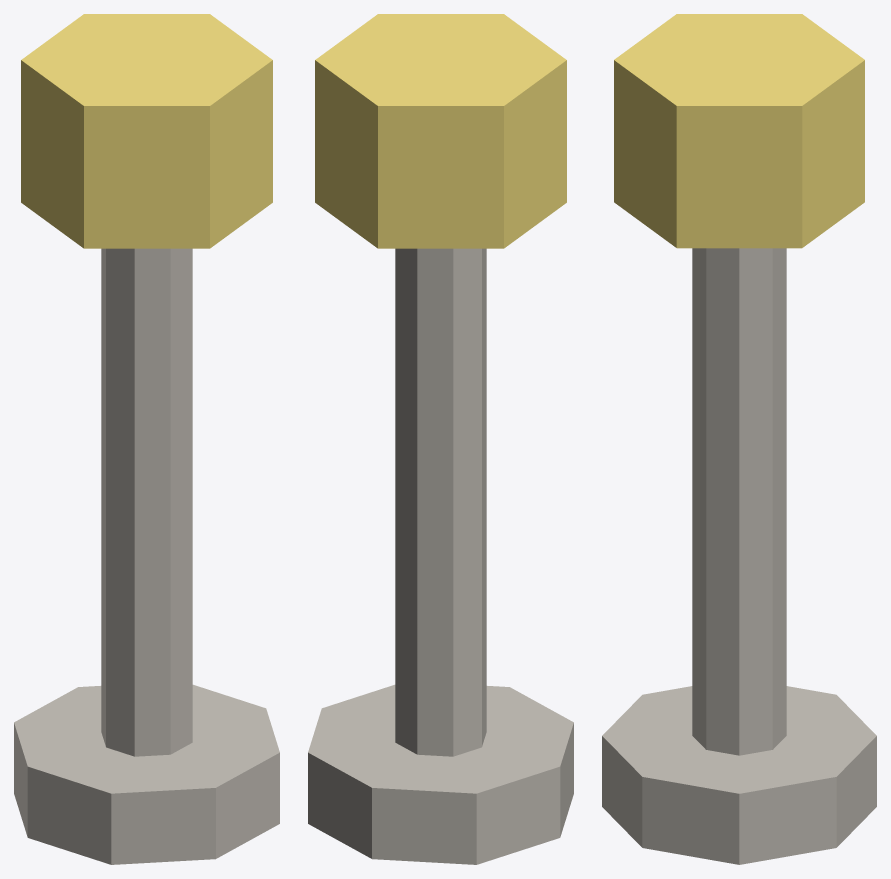
The model's file is lantern_pedestal.glb.
3 renders of one model, left to right at view 1: azimuth 30°, elevation 25°; view 2: azimuth 150°, elevation 25°; view 3: azimuth 270°, elevation 25°, orthographic.
Visible parts, largest first — view 1: Cylinder.002, Cylinder.001, Cylinder; view 2: Cylinder.002, Cylinder.001, Cylinder; view 3: Cylinder.002, Cylinder.001, Cylinder.
Part boxes in pixels (x1,y1,x2,y2): Cylinder.002: [21, 14, 272, 248]; Cylinder.001: [101, 248, 192, 756]; Cylinder: [14, 684, 279, 864]; Cylinder.002: [315, 14, 566, 248]; Cylinder.001: [395, 248, 486, 756]; Cylinder: [308, 684, 573, 864]; Cylinder.002: [614, 14, 864, 248]; Cylinder.001: [692, 248, 786, 755]; Cylinder: [602, 686, 876, 864].
Bounding box in the file's own units: 0.7 × 2.1 × 0.7.
